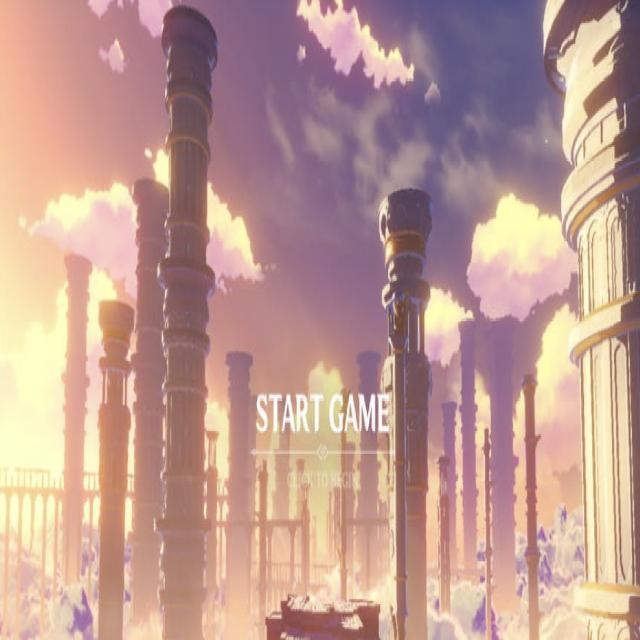Start-button: (258, 381, 392, 446)
